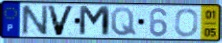6: (148, 7, 169, 38)
M: (78, 4, 112, 38)
N: (20, 4, 50, 37)
O: (174, 8, 200, 38)
Q: (109, 7, 138, 38)
V: (45, 4, 77, 37)
